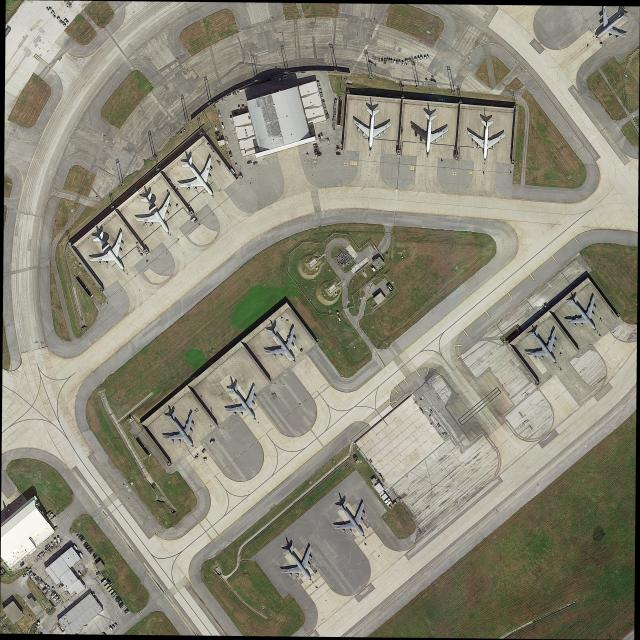large-vehicle: (326, 138, 331, 145), (320, 132, 324, 139), (318, 134, 321, 140)
plane: (70, 212, 143, 287), (164, 137, 233, 213), (125, 175, 191, 250), (145, 394, 213, 464), (247, 306, 314, 375), (208, 365, 272, 437), (317, 484, 382, 552), (265, 529, 330, 597), (513, 311, 578, 379), (554, 278, 616, 349), (459, 108, 514, 163), (578, 6, 637, 53), (404, 104, 456, 157), (350, 98, 392, 155)
small-vehicle: (108, 626, 114, 632), (102, 632, 107, 638), (312, 144, 318, 148), (314, 146, 319, 150), (314, 149, 319, 152)
